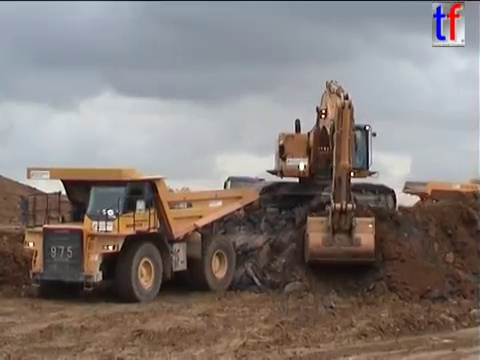excavator: (247, 77, 399, 263)
truck: (17, 165, 262, 303), (221, 174, 311, 218), (401, 176, 480, 216)
